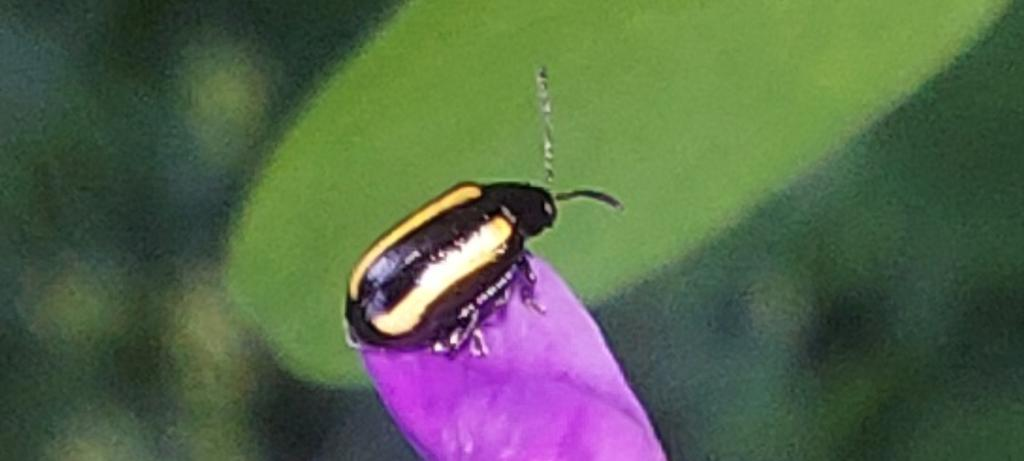flea_beetle: (290, 40, 658, 404)
